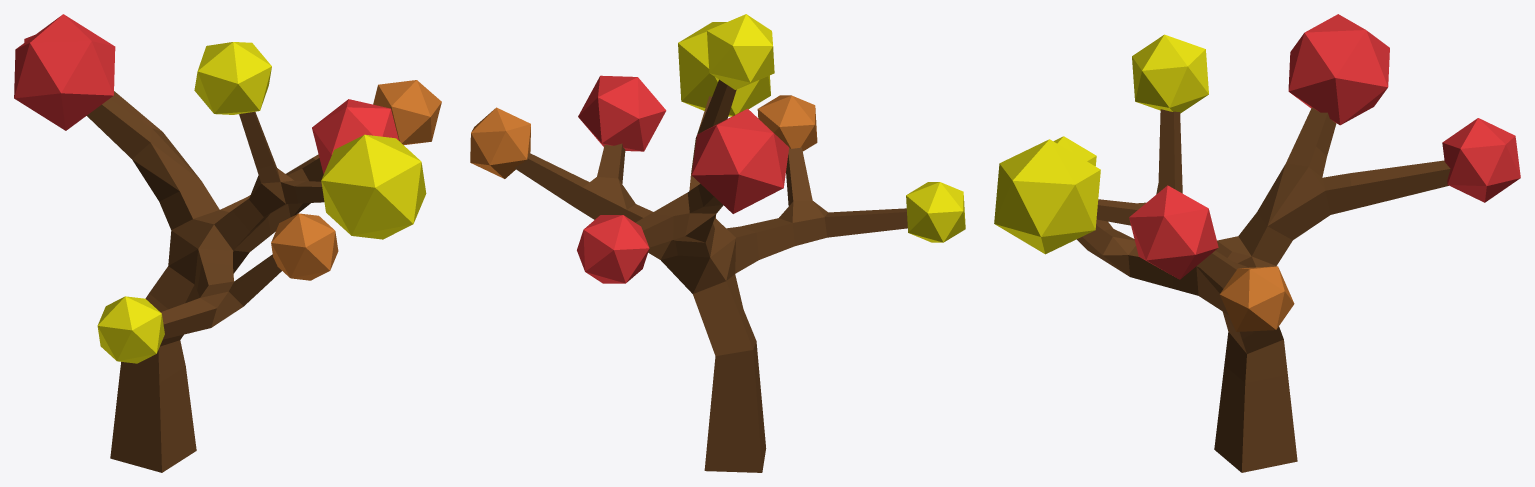
File: tree5.glb
The picture shows the model from 3 angles, left to right: view 1: azimuth 30°, elevation 25°; view 2: azimuth 150°, elevation 25°; view 3: azimuth 270°, elevation 25°; orthographic projection. The views are drawn at different scales.
Visible parts, largest first — view 1: Trunk, Icosphere.005, Icosphere, Icosphere.004, Icosphere.007, Icosphere.006, Icosphere.003, Icosphere.002; view 2: Trunk, Icosphere, Icosphere.003, Icosphere.004, Icosphere.001, Icosphere.005, Icosphere.002, Icosphere.007, Icosphere.006; view 3: Trunk, Icosphere.005, Icosphere, Icosphere.003, Icosphere.004, Icosphere.001, Icosphere.002.
Part boxes in pixels (x1,y1,x2,y2): Trunk: [87, 91, 324, 472]; Icosphere.005: [321, 134, 426, 239]; Icosphere: [14, 14, 115, 130]; Icosphere.004: [194, 42, 271, 114]; Icosphere.007: [97, 296, 164, 363]; Icosphere.006: [271, 213, 338, 280]; Icosphere.003: [312, 99, 398, 173]; Icosphere.002: [373, 80, 441, 144]; Trunk: [514, 79, 907, 472]; Icosphere: [691, 108, 789, 213]; Icosphere.003: [578, 75, 666, 151]; Icosphere.004: [707, 14, 774, 89]; Icosphere.001: [577, 215, 649, 283]; Icosphere.005: [678, 22, 770, 116]; Icosphere.002: [470, 107, 530, 178]; Icosphere.007: [906, 182, 965, 242]; Icosphere.006: [757, 95, 817, 151]; Trunk: [1077, 107, 1450, 472]; Icosphere.005: [994, 139, 1100, 254]; Icosphere: [1288, 14, 1389, 125]; Icosphere.003: [1129, 185, 1218, 279]; Icosphere.004: [1132, 34, 1208, 113]; Icosphere.001: [1442, 118, 1520, 202]; Icosphere.002: [1220, 266, 1294, 331].
Bounding box in the file's own units: 5.16 × 4.96 × 5.41.
